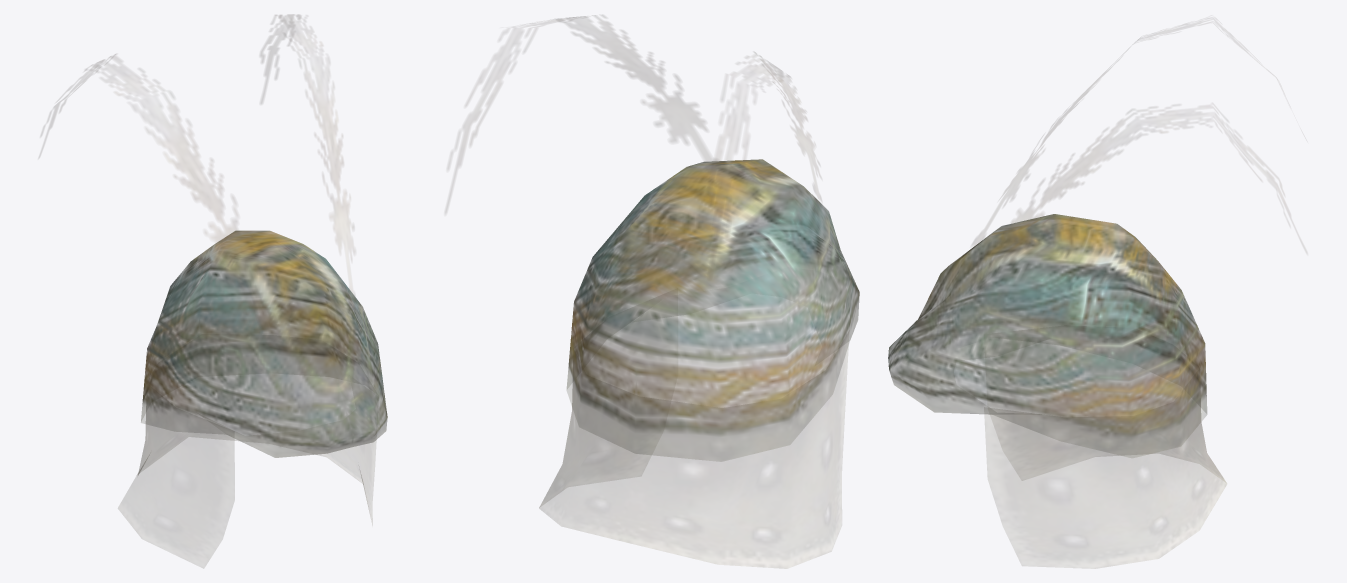
The model's file is heavy_02_ha.glb.
The picture shows the model from 3 angles, left to right: view 1: azimuth 30°, elevation 25°; view 2: azimuth 150°, elevation 25°; view 3: azimuth 270°, elevation 25°; orthographic projection. The views are drawn at different scales.
Parts seen in each view (by area): view 1: heavy_02_ha; view 2: heavy_02_ha; view 3: heavy_02_ha.
Boxes of the visible parts, x1=… form: heavy_02_ha: x1=39, y1=14, x2=387, y2=568; heavy_02_ha: x1=445, y1=15, x2=859, y2=568; heavy_02_ha: x1=888, y1=17, x2=1306, y2=568.
Bounding box in the file's own units: 0.2364 × 0.3855 × 0.3361.
Materials: 1 (1 with a texture image).
